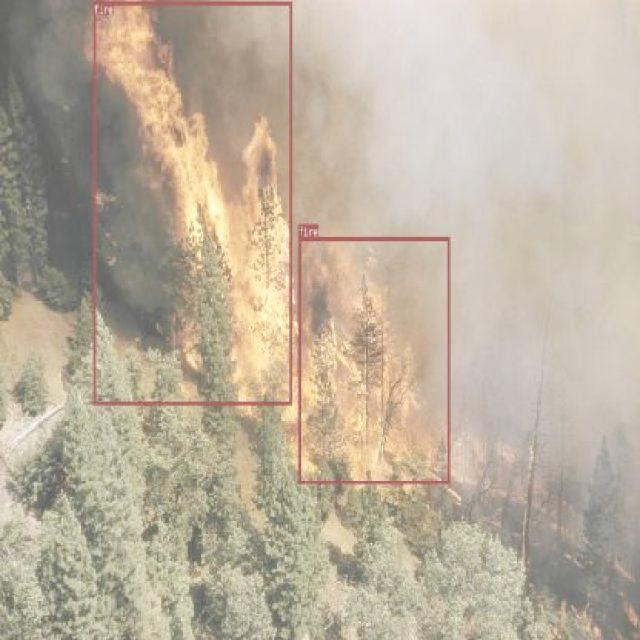fire: (93, 1, 292, 406), (298, 237, 450, 483)
